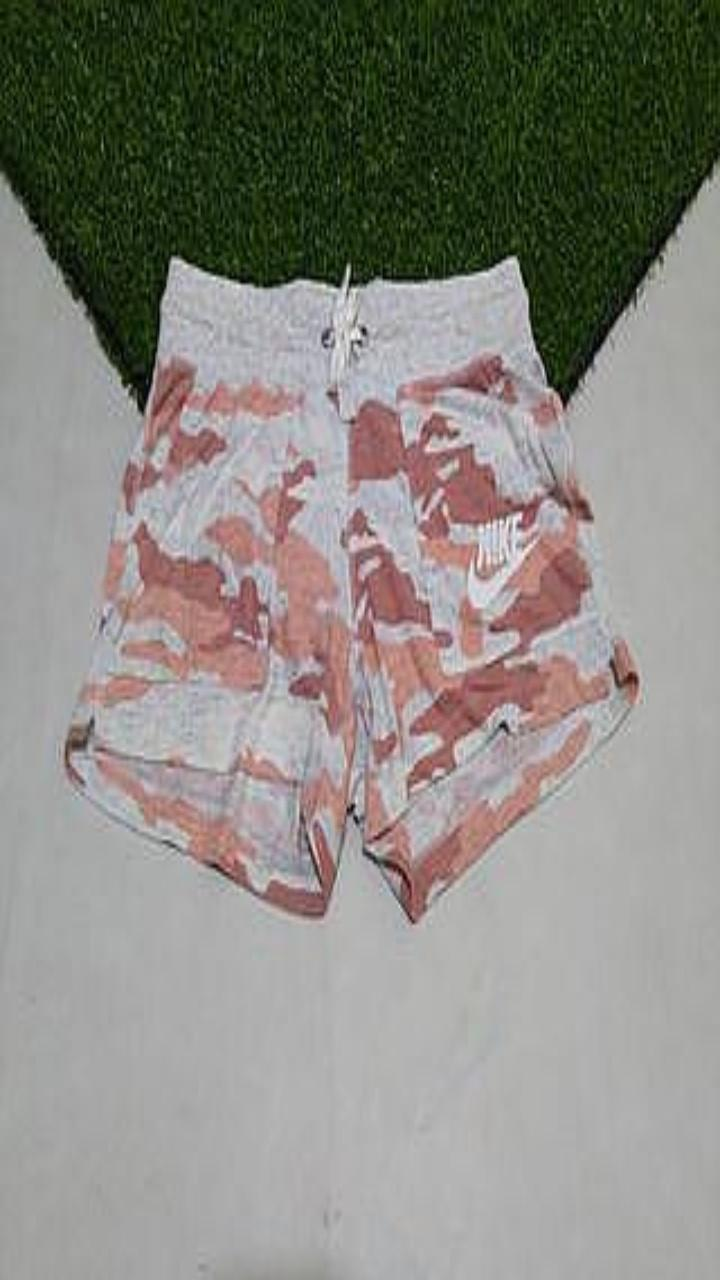Shorts: (64, 256, 637, 920)
